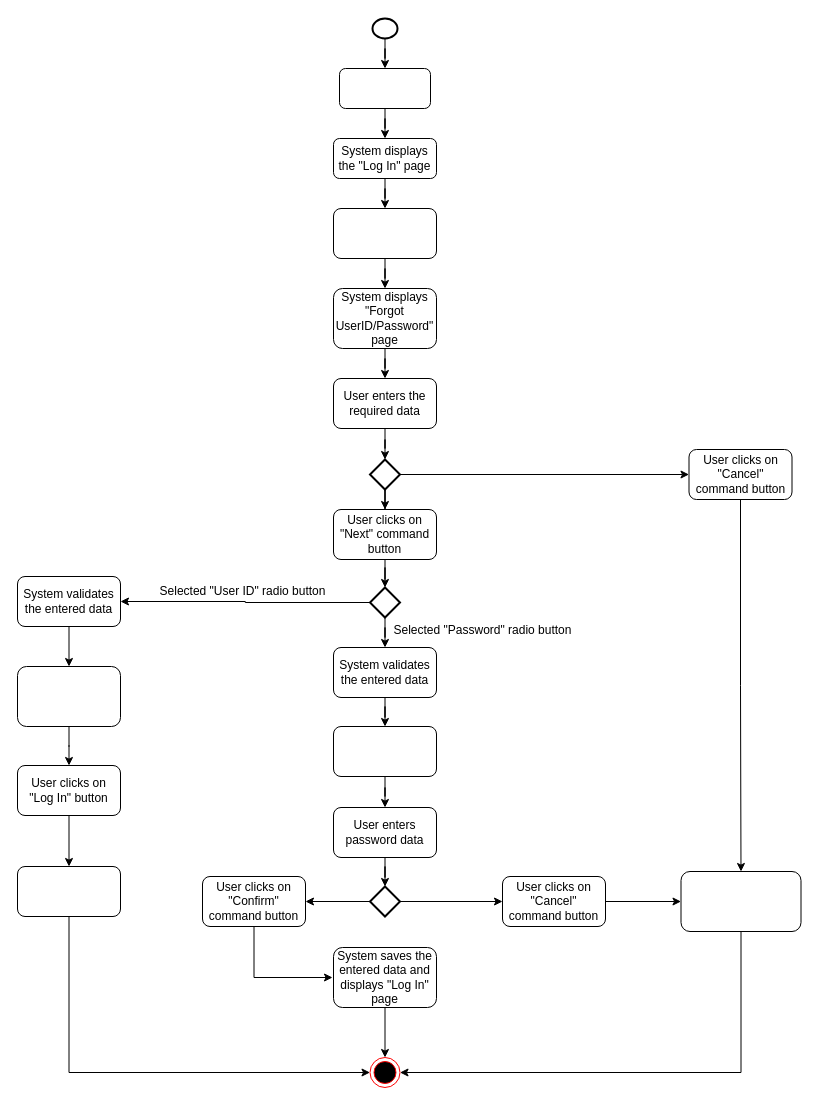
This 819x1105 diagram has some shape labels left out. Each missing label, with the centre of its shape:
System discards all the entered data and displays "Log In" page: [740,901]
System displays "Log In" page: [68,891]
System displays the "Forgot Password" page: [384,751]
System displays the "Forgot UserID" page: [68,696]
User clicks on "Apply Online": [384,88]
User clicks on "Forgot UserID/Password": [384,233]
